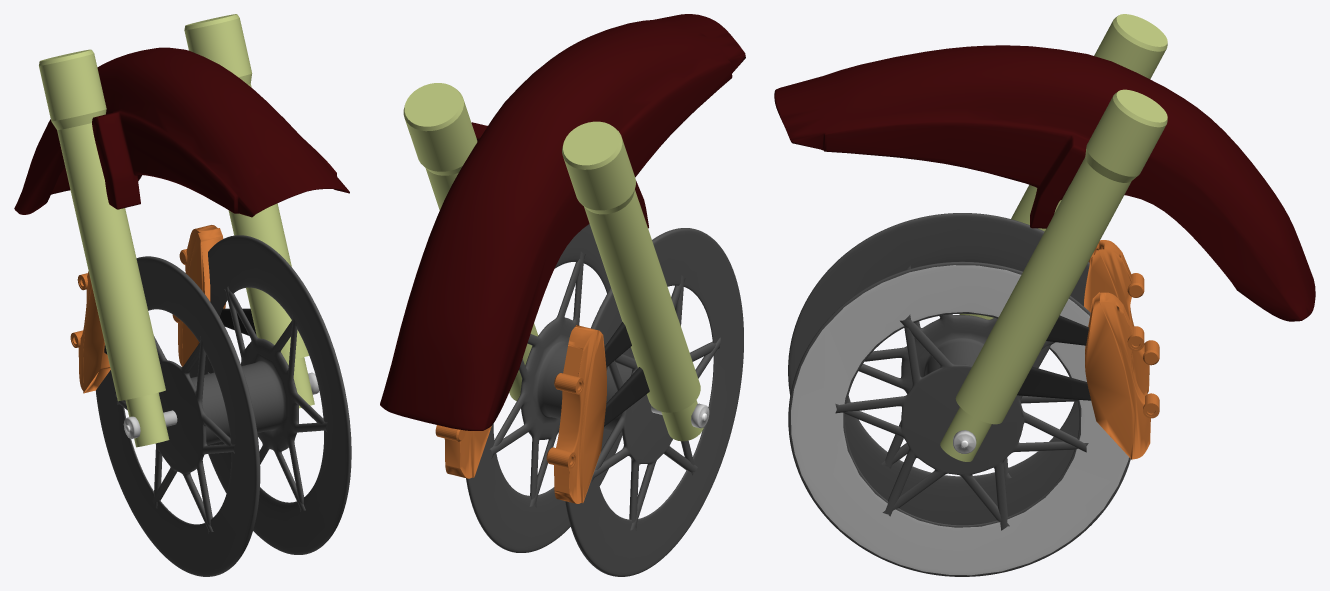
The model's file is CB400SF_FrontFender.obj.
The picture shows the model from 3 angles, left to right: view 1: azimuth 30°, elevation 25°; view 2: azimuth 150°, elevation 25°; view 3: azimuth 270°, elevation 25°; orthographic projection. The views are drawn at different scales.
Visible parts, largest first — view 1: FrontFender; view 2: FrontFender; view 3: FrontFender.
Boxes of the visible parts, left/top/right/bottom form: FrontFender: left=14, top=14, right=351, bottom=576; FrontFender: left=380, top=14, right=745, bottom=576; FrontFender: left=774, top=14, right=1315, bottom=576.
Bounding box in the file's own units: 28.69 × 66.04 × 64.78.
